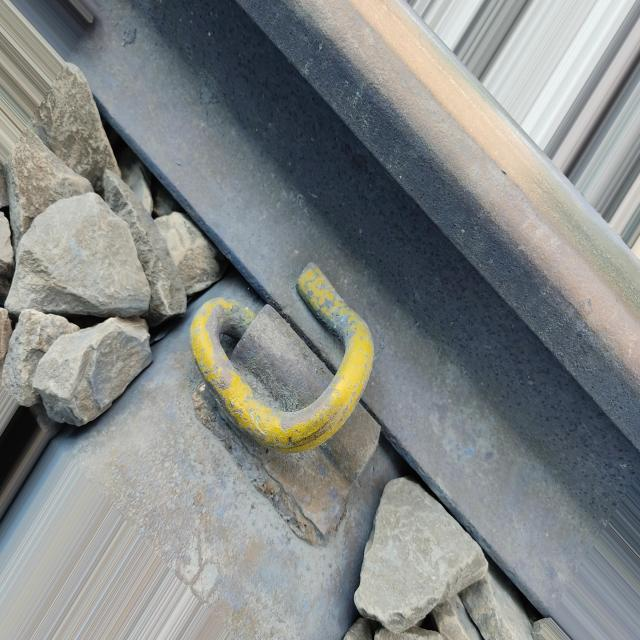Good Fasteners: (180, 256, 398, 559)
